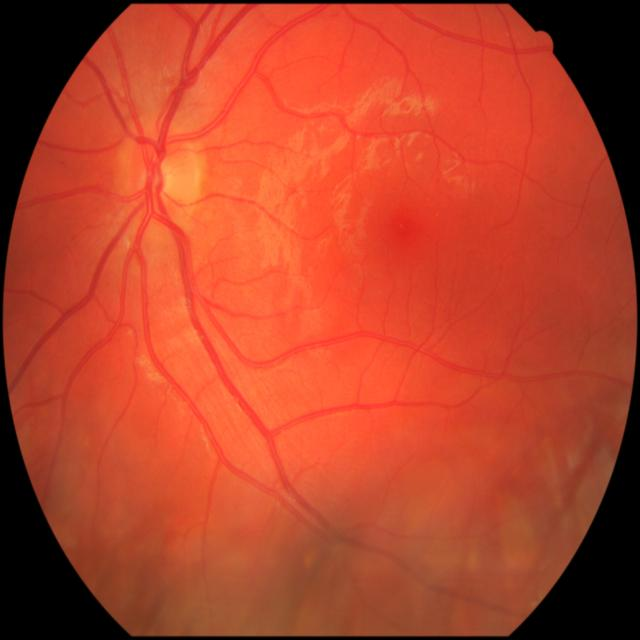OC: (142, 162, 172, 194)
OD: (116, 120, 201, 238)
